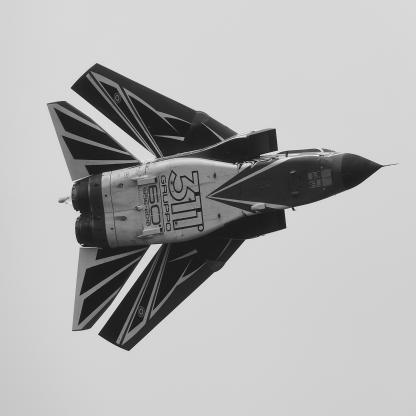Tornado: (47, 64, 400, 352)
